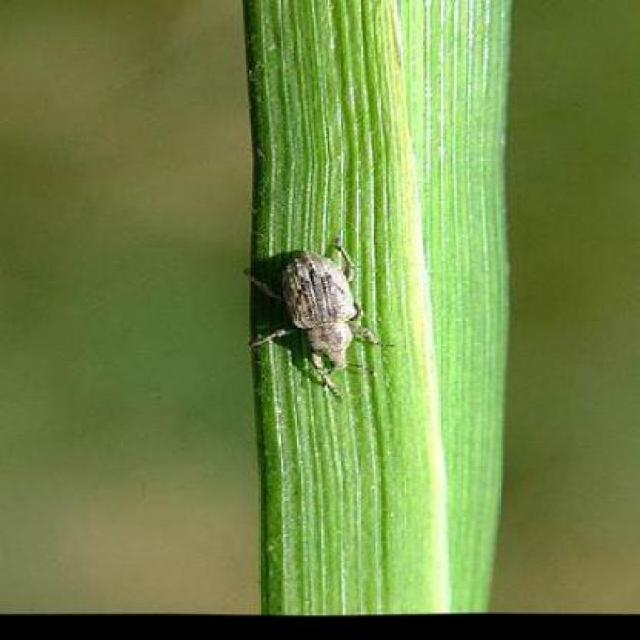rice-bug: (248, 246, 382, 382)
